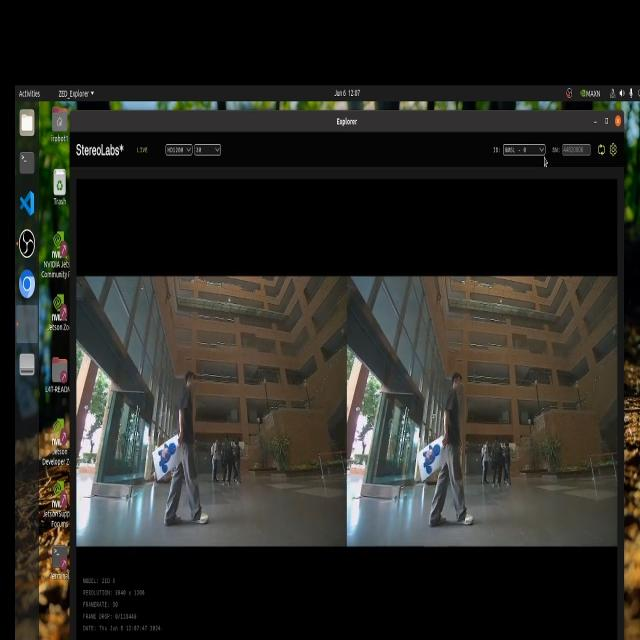blue: (417, 436, 447, 478), (153, 439, 184, 475)
